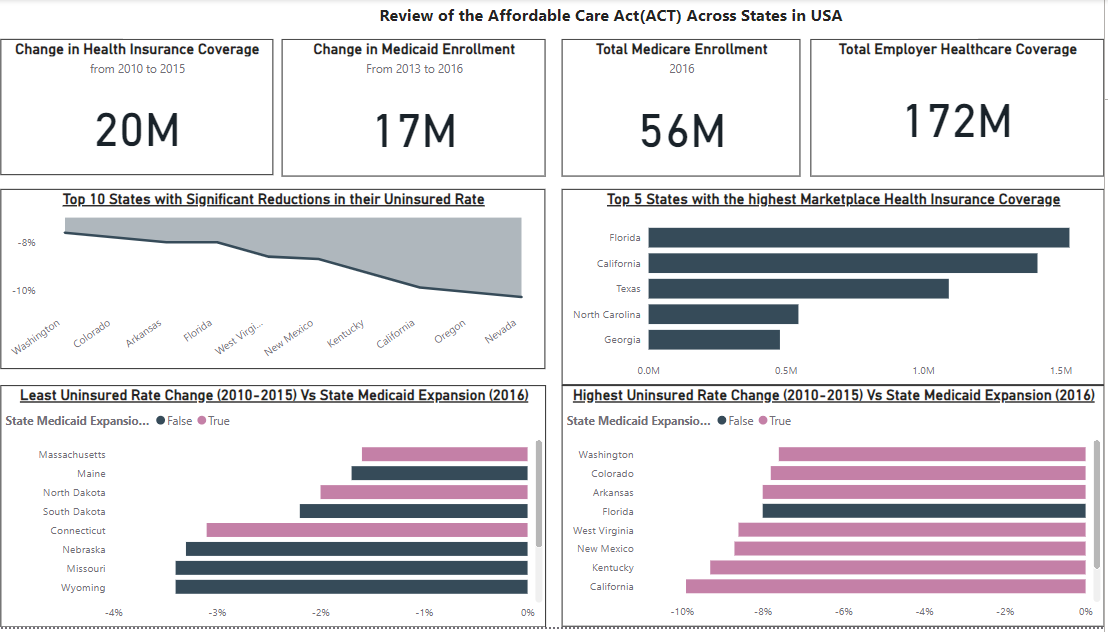

The dashboard page shown, as its layout file describes it:
{"tool":"powerbi","page":{"name":"Page 1","canvas":[1280,720],"ordinal":0},"visuals":[{"type":"stackedAreaChart","title":"Top 10 States with Significant Reductions in their Uninsured Rate","fields":{"Category":["States.State"],"Y":["Sum(States.Uninsured Rate Change (2010-2015))"]},"box":[14.3,217.9,625.1,206.5],"z":0},{"type":"barChart","title":"Highest Uninsured Rate Change (2010-2015) Vs State Medicaid Expansion (2016)","fields":{"Category":["States.State"],"Y":["Sum(States.Uninsured Rate Change (2010-2015))"],"Series":["States.State Medicaid Expansion (2016)"]},"box":[658.1,443,622.2,276.7],"z":1000},{"type":"clusteredBarChart","title":"Top 10 States with the highest Marketplace Health Insurance Coverage","fields":{"Category":["States.State"],"Y":["Sum(States.Marketplace Health Insurance Coverage (2016))"]},"box":[658.1,217.9,622.2,225.1],"z":2000},{"type":"barChart","title":"Least Uninsured Rate Change (2010-2015) Vs State Medicaid Expansion (2016)","fields":{"Category":["States.State"],"Y":["Sum(States.Uninsured Rate Change (2010-2015))"],"Series":["States.State Medicaid Expansion (2016)"]},"box":[14.5,442.6,625.9,277.4],"z":3000},{"type":"cardVisual","title":"Change in Health Insurance Coverage ","fields":{"Data":["Sum(States.Health Insurance Coverage Change (2010-2015))"]},"box":[14.3,45.9,312.5,156.3],"z":4000},{"type":"cardVisual","title":"Change in Medicaid Enrollment ","fields":{"Data":["Sum(States.Medicaid Enrollment Change 2016-2013)"]},"box":[336.5,45.8,302.7,158],"z":5000},{"type":"cardVisual","title":"Total Medicare Enrollment","fields":{"Data":["Sum(States.Medicare Enrollment (2016))"]},"box":[658.1,45.9,273.8,157.7],"z":6000},{"type":"cardVisual","title":"Total Employer Healthcare Coverage","fields":{"Data":["Sum(States.Employer Health Insurance Coverage (2015))"]},"box":[943.4,45.9,336.9,157.7],"z":7000},{"type":"textbox","box":[154.4,0,980.5,45.8],"z":8000}]}

Visuals, with their boxes in screenshot pixels (x1, y1, x2, y2), scaled from the page's 1280x720 canvas onto the 1108x632 screenshot:
"Top 10 States with Significant Reductions in their Uninsured Rate" stackedAreaChart: (x1=12, y1=191, x2=553, y2=373)
"Highest Uninsured Rate Change (2010-2015) Vs State Medicaid Expansion (2016)" barChart: (x1=570, y1=389, x2=1107, y2=631)
"Top 10 States with the highest Marketplace Health Insurance Coverage" clusteredBarChart: (x1=570, y1=191, x2=1107, y2=389)
"Least Uninsured Rate Change (2010-2015) Vs State Medicaid Expansion (2016)" barChart: (x1=13, y1=389, x2=554, y2=631)
"Change in Health Insurance Coverage " cardVisual: (x1=12, y1=40, x2=283, y2=177)
"Change in Medicaid Enrollment " cardVisual: (x1=291, y1=40, x2=553, y2=179)
"Total Medicare Enrollment" cardVisual: (x1=570, y1=40, x2=807, y2=179)
"Total Employer Healthcare Coverage" cardVisual: (x1=817, y1=40, x2=1107, y2=179)
textbox: (x1=134, y1=0, x2=982, y2=40)
